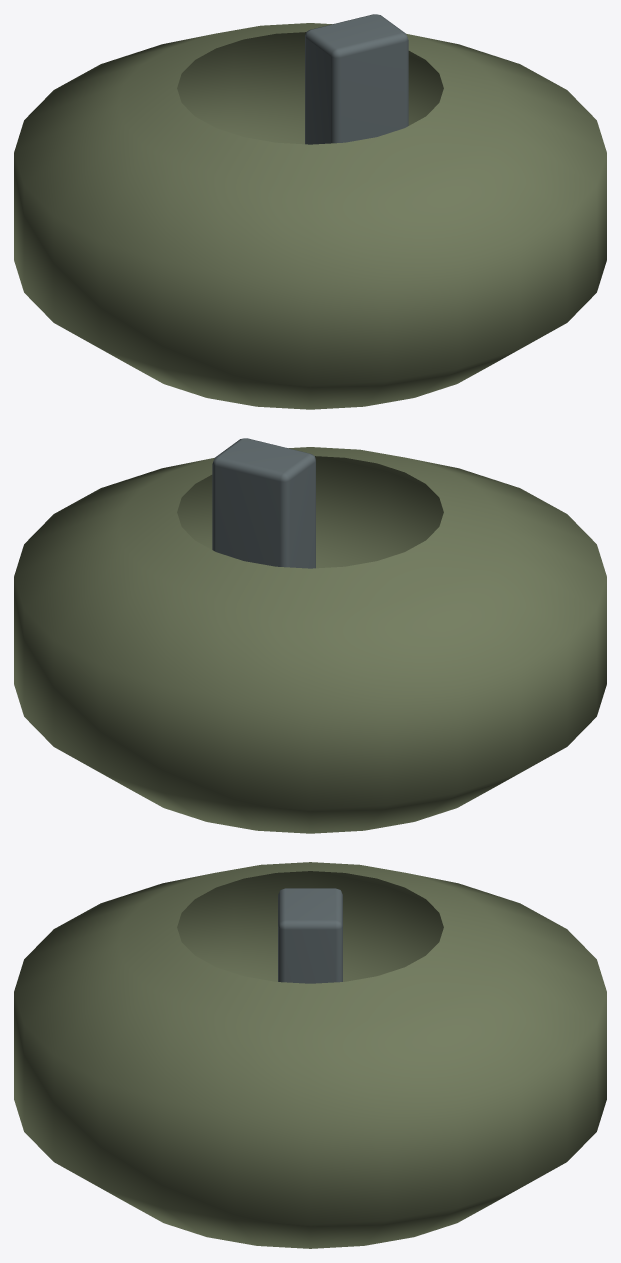
Rendered from frag-grenade.glb.
3 views of the same model, one above another, from view 1: azimuth 30°, elevation 25°; view 2: azimuth 150°, elevation 25°; view 3: azimuth 270°, elevation 25° (orthographic).
Visible parts, largest first — view 1: segmented-body, lever; view 2: segmented-body, lever; view 3: segmented-body, lever.
Boxes of the visible parts, x1,y1,x2,y2 form: segmented-body: (14, 23, 606, 409); lever: (305, 14, 408, 144); segmented-body: (14, 447, 606, 833); lever: (212, 438, 315, 568); segmented-body: (14, 862, 606, 1248); lever: (278, 888, 342, 983).
Size of the model in its own units: 2 by 1.11 by 2.
